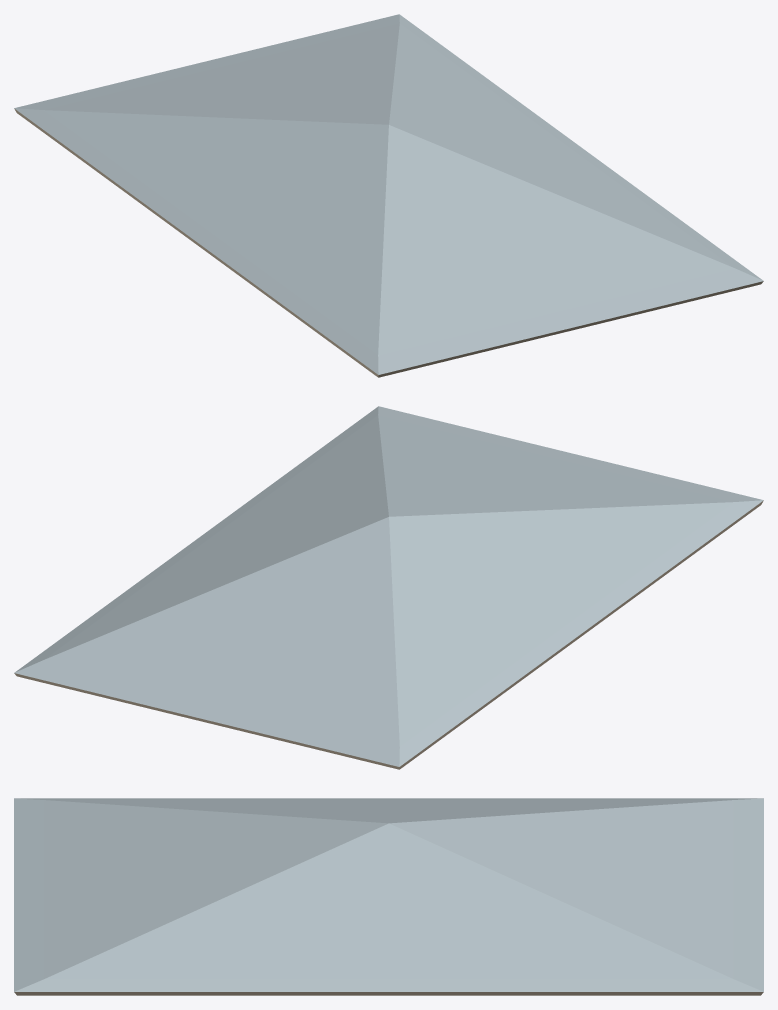
The model's file is atrium-lantern-roof.glb.
3 views of the same model, one above another, from view 1: azimuth 30°, elevation 25°; view 2: azimuth 150°, elevation 25°; view 3: azimuth 270°, elevation 25° (orthographic). The views are drawn at different scales.
Parts seen in each view (by area): view 1: Roof, RoodWood; view 2: Roof, RoodWood; view 3: Roof, RoodWood.
Boxes of the visible parts, bbox=[...] form: Roof: bbox=[14, 14, 763, 374]; RoodWood: bbox=[14, 108, 763, 377]; Roof: bbox=[14, 406, 763, 766]; RoodWood: bbox=[14, 500, 763, 769]; Roof: bbox=[14, 798, 763, 991]; RoodWood: bbox=[14, 992, 763, 995].
Size of the model in its own units: 18.8 by 3.45 by 30.8.
